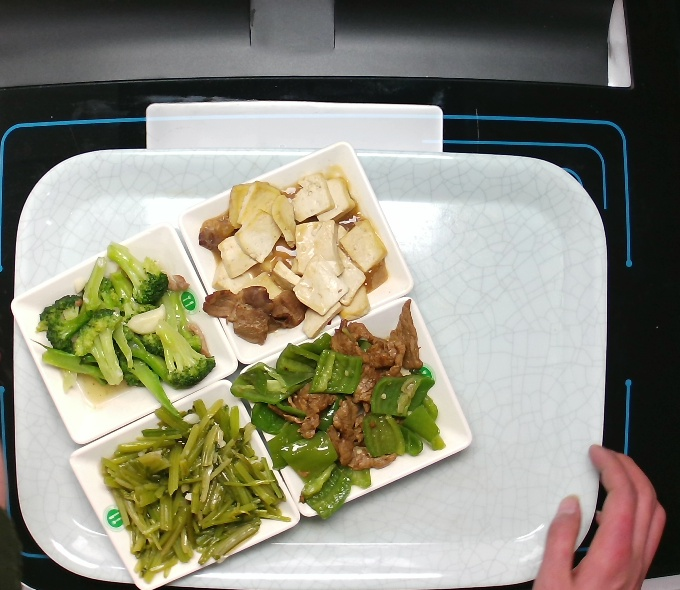wcq-DouFuRouPian: (198, 172, 396, 344)
wcq-QinCai: (103, 401, 287, 580)
wcq-QingJiaoChaoRou: (238, 301, 453, 500)
wcq-XiLanHua: (39, 242, 215, 404)
